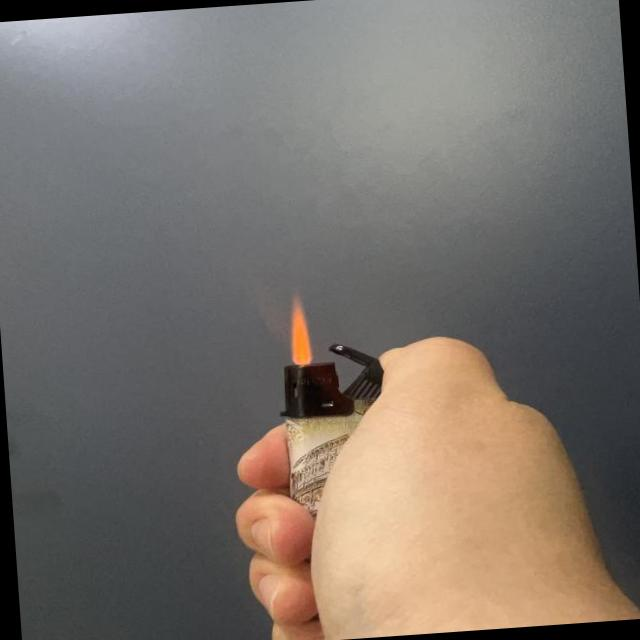Fire: (278, 285, 316, 369)
